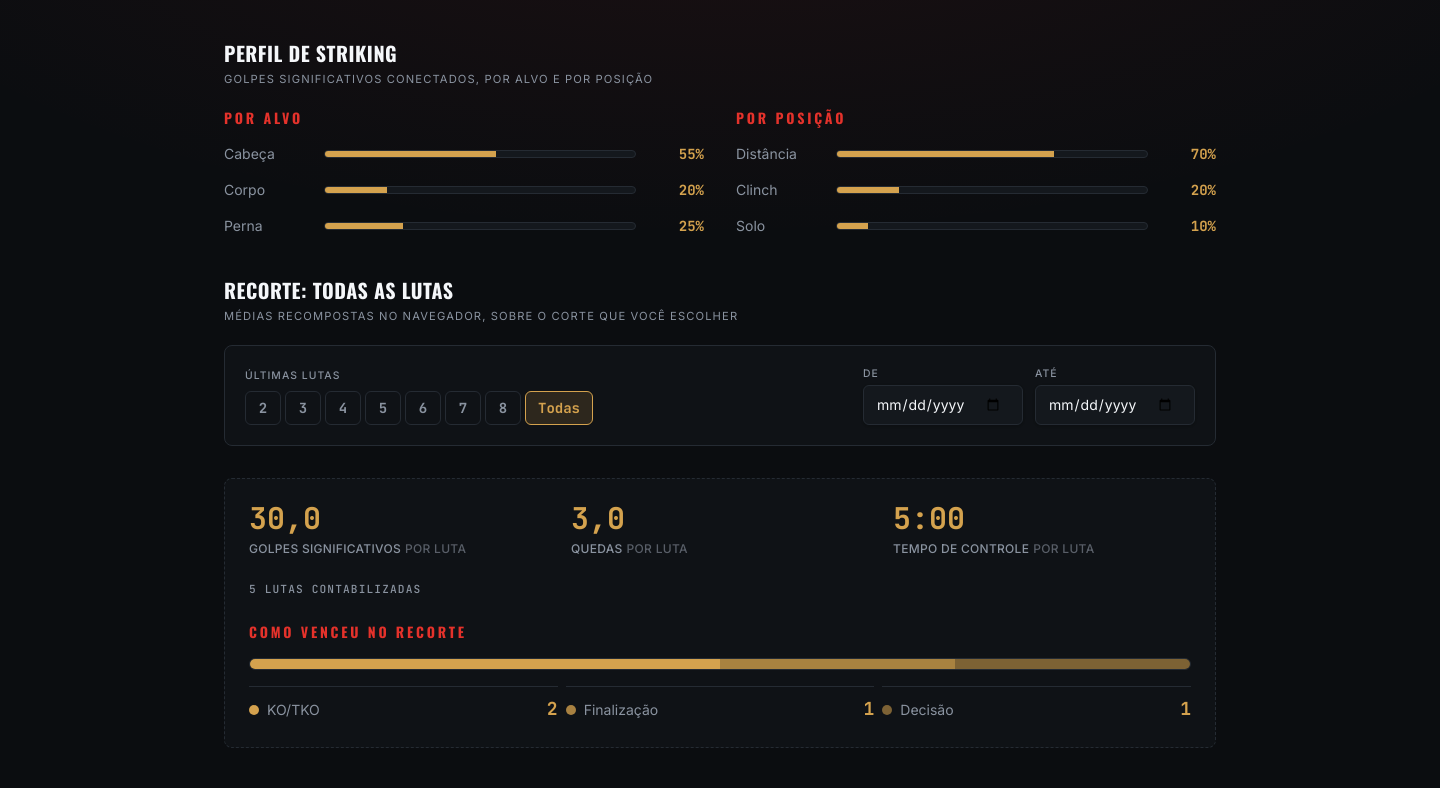
Scenario: FighterPage — recorte de últimas N lutas › combina período e últimas N por interseção
(page scrolled)
Expected: the text "5 lutas contabilizadas" is shown, [249,582,421,596]
Type "2016-01-01" into the date field named "data inicial" at [943, 405], box [863,385,1023,425]
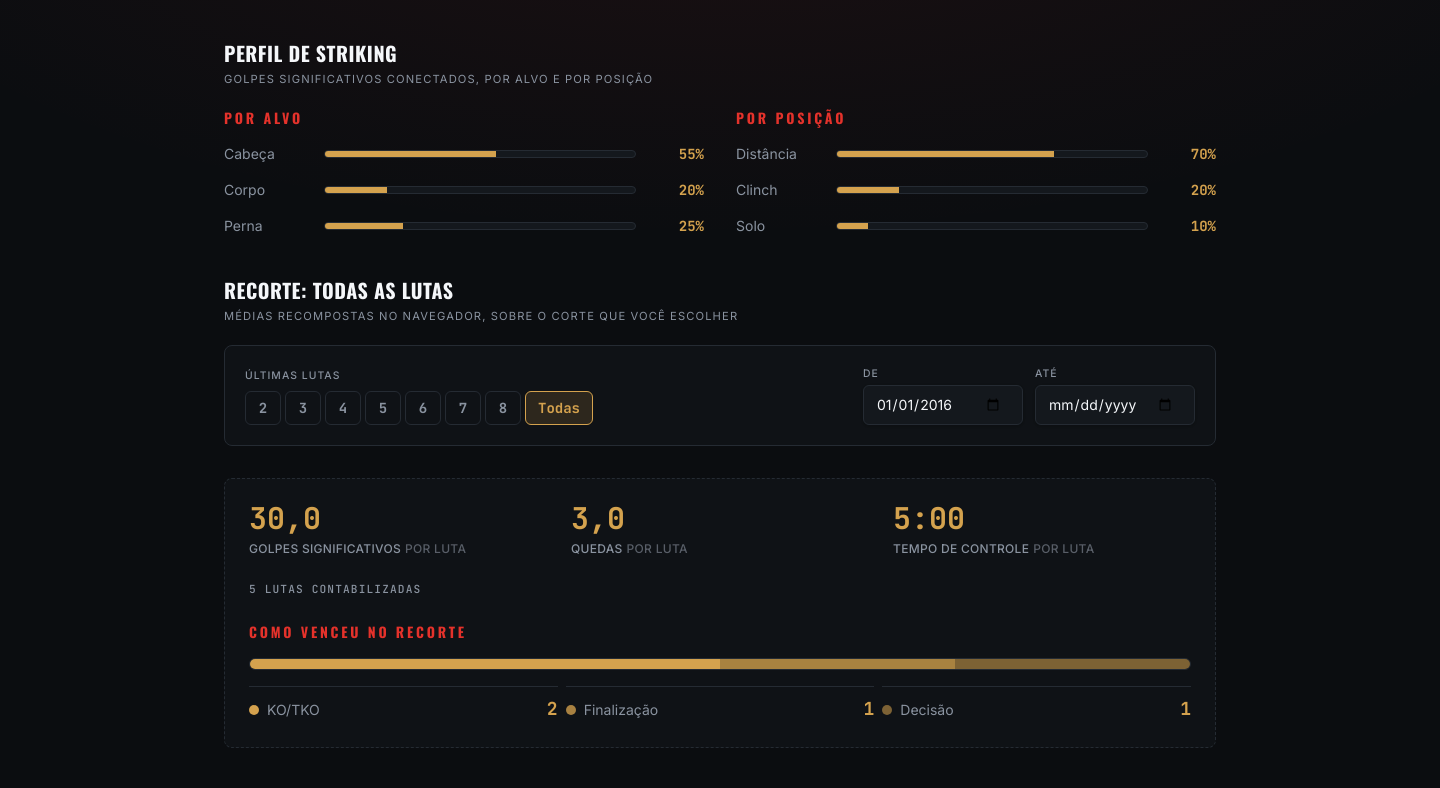
Type "2020-12-31" into the date field named "data final" at [1115, 405], box [1035,385,1195,425]
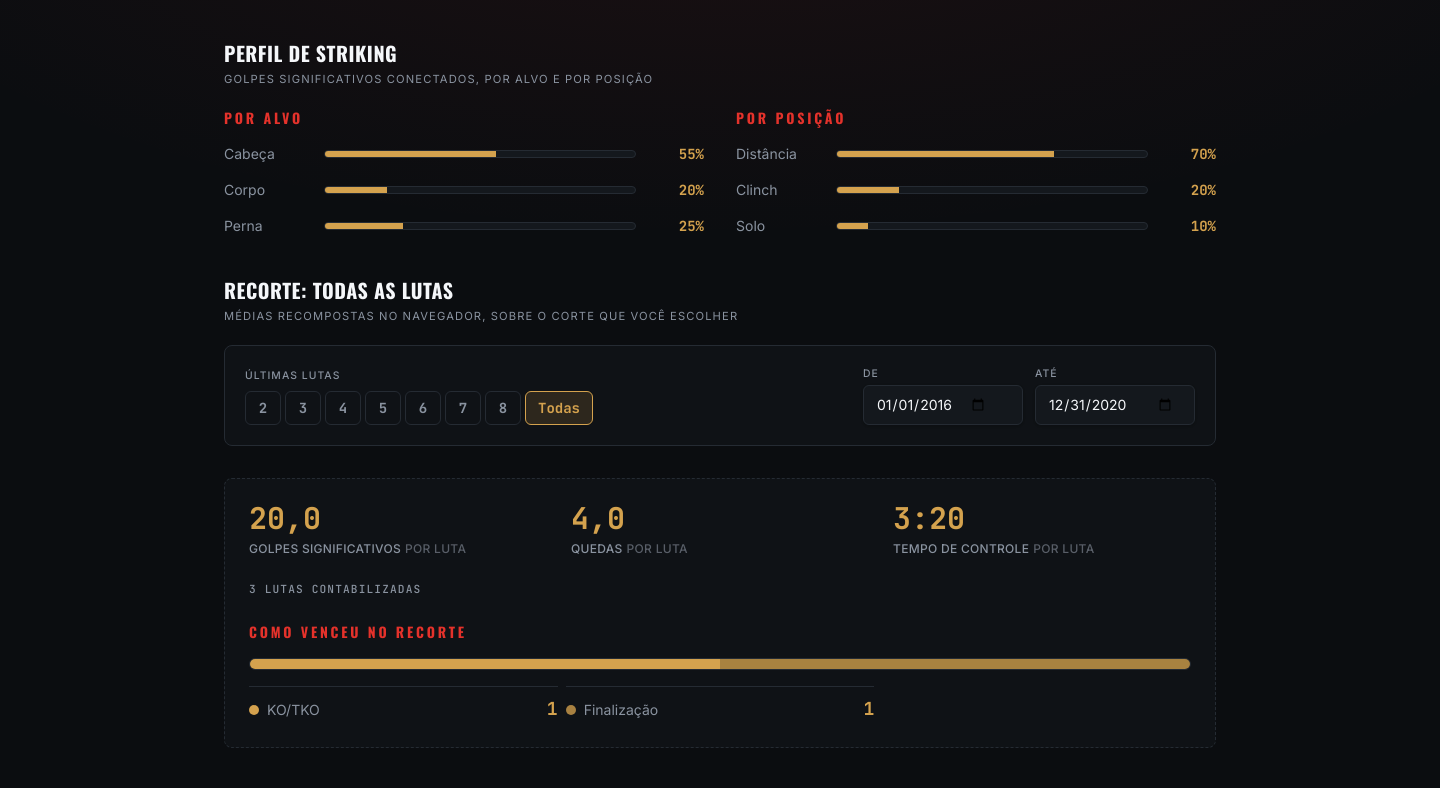
Click the button "2" at [263, 408], box [245,391,281,425]
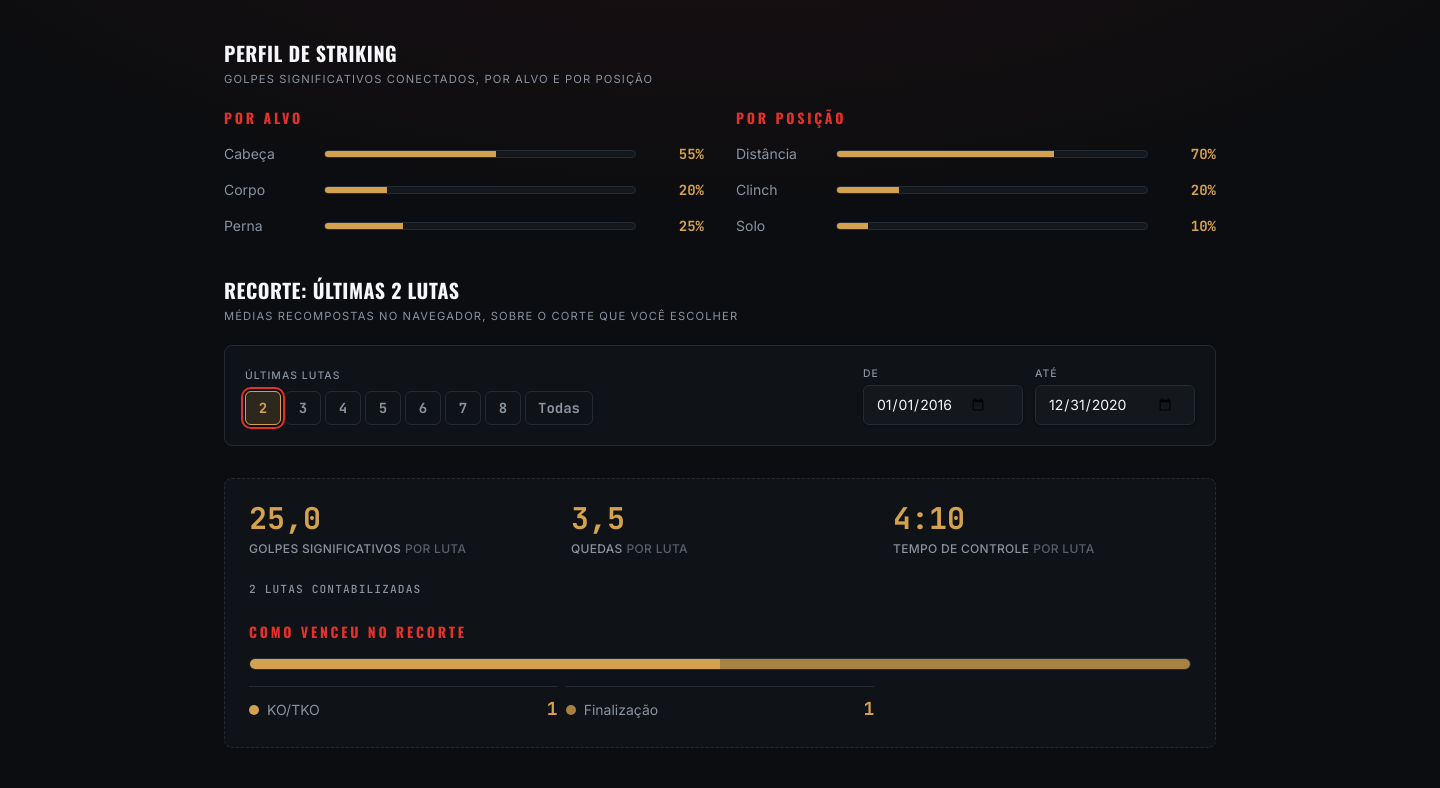
Expected: the text "2 lutas contabilizadas" is shown, [249,582,421,596]
Expected: the text "25,0" is shown, [249,498,321,538]
